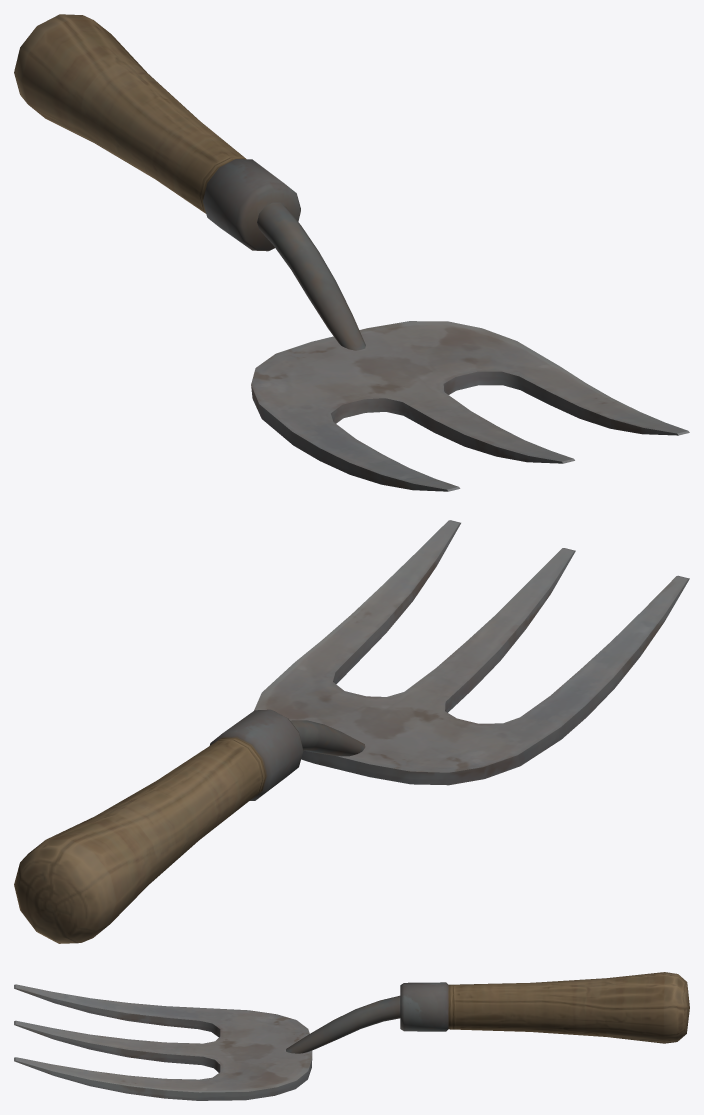
The model's file is SM_Farm_Garden_Fork_01.fbx.
The picture shows the model from 3 angles, top to bottom: view 1: azimuth 30°, elevation 25°; view 2: azimuth 150°, elevation 25°; view 3: azimuth 270°, elevation 25°; orthographic projection. The views are drawn at different scales.
Parts seen in each view (by area): view 1: SM_Farm_Garden_Fork_01_LOD0; view 2: SM_Farm_Garden_Fork_01_LOD0; view 3: SM_Farm_Garden_Fork_01_LOD0.
Boxes of the visible parts, x1=… form: SM_Farm_Garden_Fork_01_LOD0: x1=14, y1=14, x2=689, y2=491; SM_Farm_Garden_Fork_01_LOD0: x1=14, y1=520, x2=689, y2=943; SM_Farm_Garden_Fork_01_LOD0: x1=14, y1=972, x2=689, y2=1100.
Size of what is drawn, in the model's own units: 0.1618 by 0.0757 by 0.5457.
